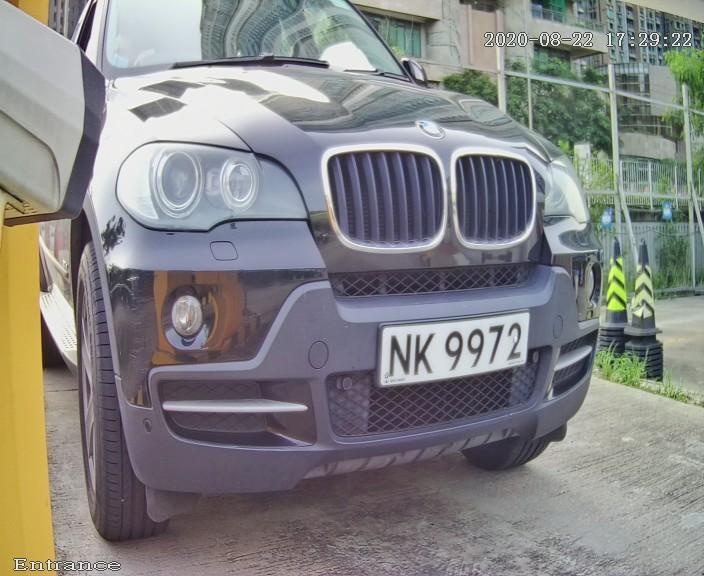Car: (19, 6, 629, 528)
License Plate: (351, 284, 557, 410)
